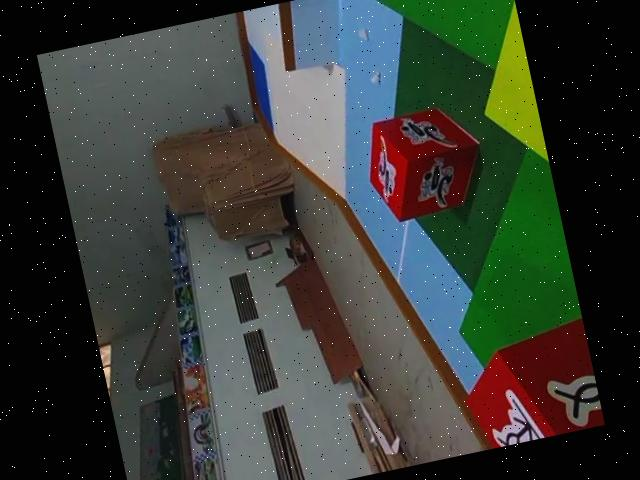R1: (353, 97, 494, 229)
R2 Real: (444, 313, 605, 454)
